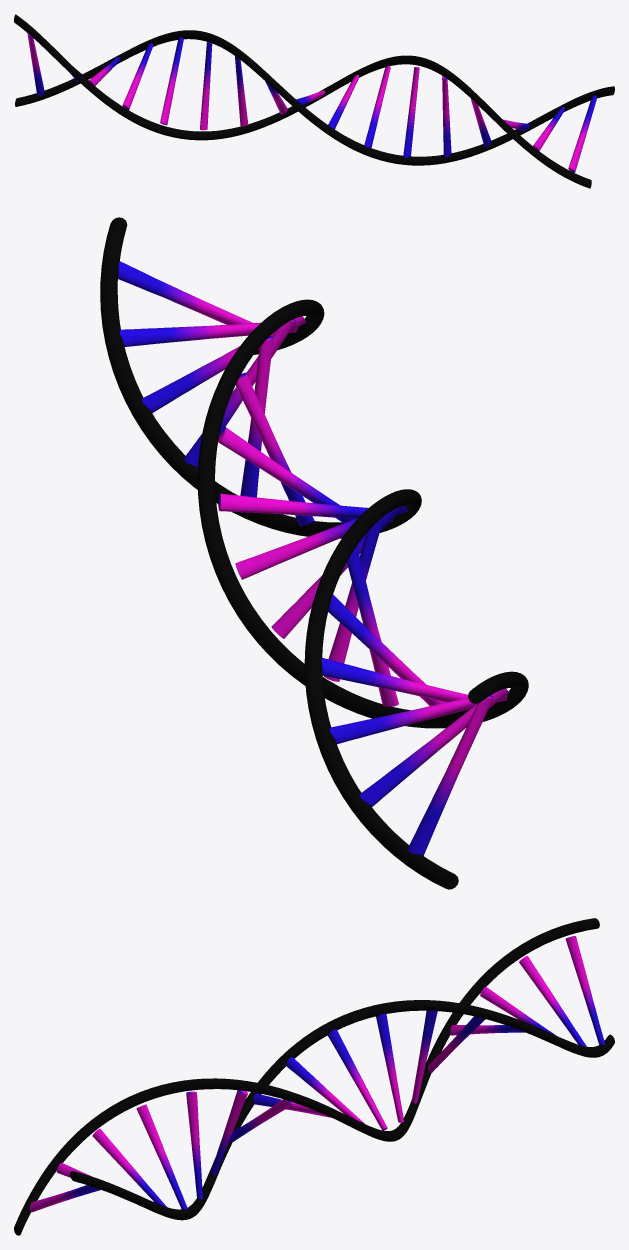
Rendered from dna.glb.
3 views of the same model, one above another, from view 1: azimuth 30°, elevation 25°; view 2: azimuth 150°, elevation 25°; view 3: azimuth 270°, elevation 25° (orthographic). The views are drawn at different scales.
Parts seen in each view (by area): view 1: Cylinder; view 2: Cylinder; view 3: Cylinder.
Part boxes in pixels (x1,y1,x2,y2): Cylinder: [14, 14, 614, 188]; Cylinder: [100, 217, 528, 889]; Cylinder: [14, 918, 614, 1235].
Bounding box in the file's own units: 3.77 × 0.9265 × 3.99.
Materials: 1 (1 with a texture image).
